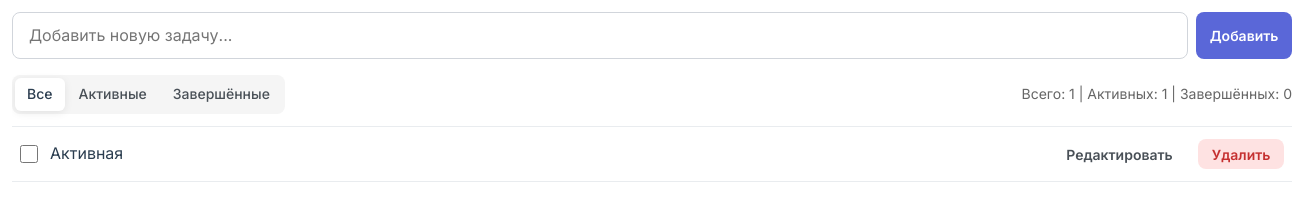
Scenario: TodoList › filters by state and explains empty results
Click the button "Завершённые".
click(221, 95)  # box left=161, top=78, right=282, bottom=111
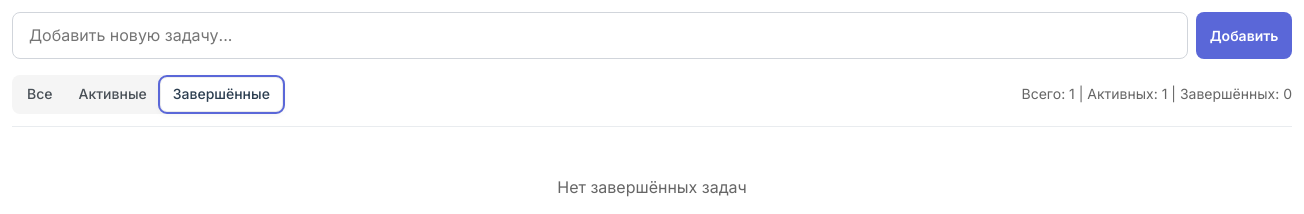
Result: the checkbox is gone
Result: the text "Нет завершённых задач" is shown at left=557, top=177, right=747, bottom=197
Click the button "Активные".
click(113, 95)  # box left=66, top=78, right=159, bottom=111
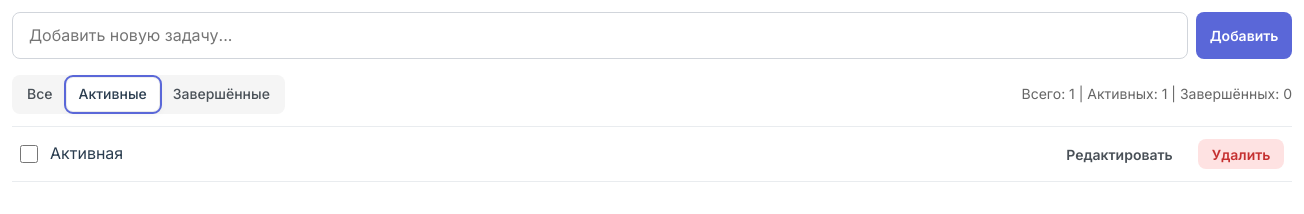
Result: the checkbox named "Активная" is shown at left=20, top=145, right=38, bottom=163
